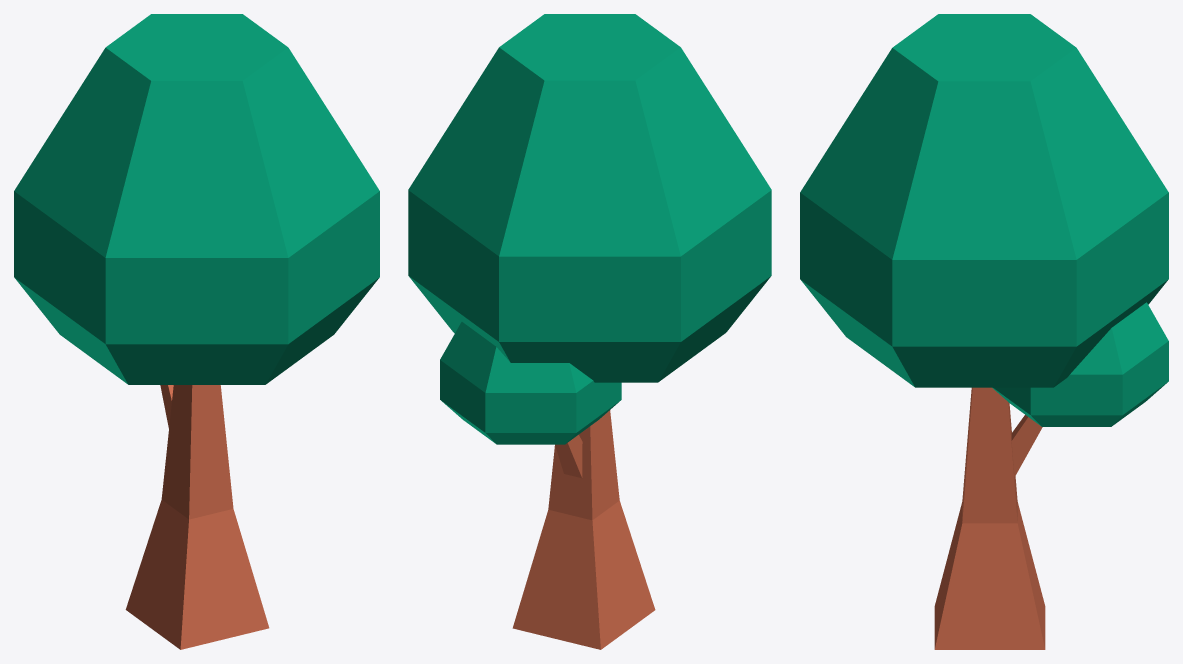
Rendered from Tree.fbx.
3 renders of one model, left to right at view 1: azimuth 30°, elevation 25°; view 2: azimuth 150°, elevation 25°; view 3: azimuth 270°, elevation 25°, orthographic.
Visible parts, largest first — view 1: mergedBlocks; view 2: mergedBlocks; view 3: mergedBlocks.
Boxes of the visible parts, bbox=[...] form: mergedBlocks: bbox=[14, 14, 379, 649]; mergedBlocks: bbox=[408, 14, 771, 649]; mergedBlocks: bbox=[800, 14, 1168, 649].
Bounding box in the file's own units: 10 × 20 × 11.55.
